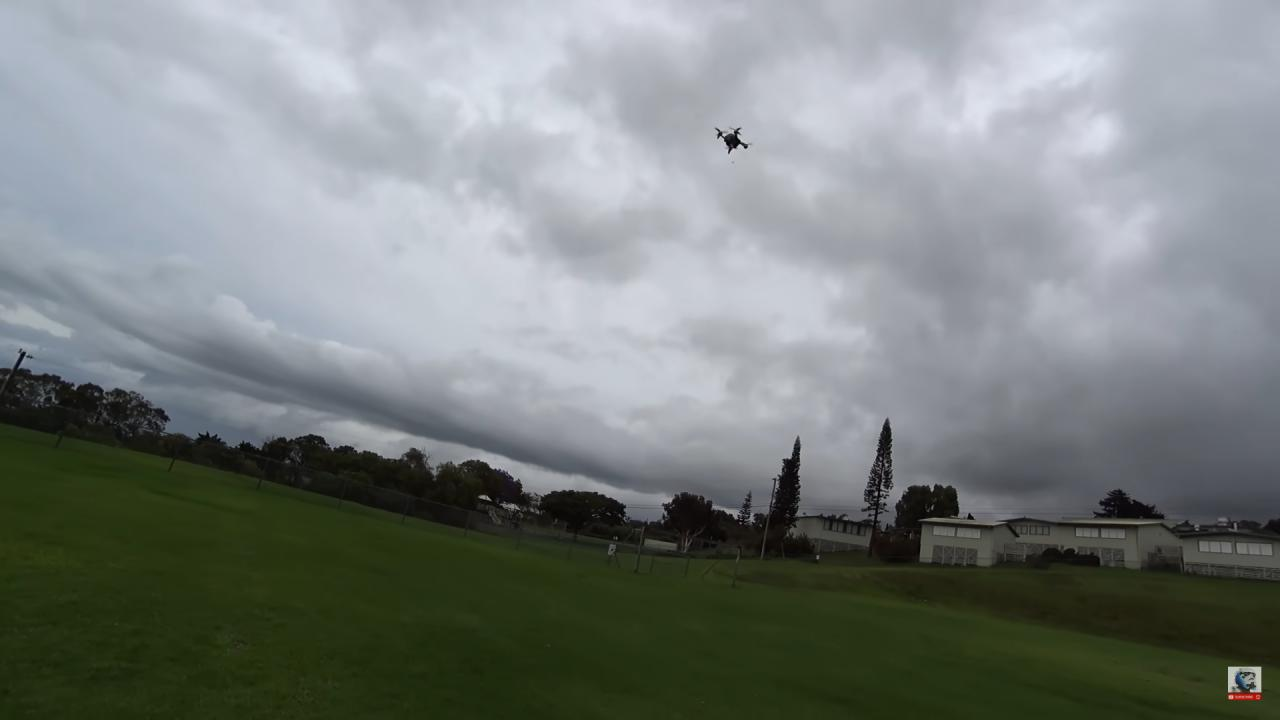Drone: (702, 111, 764, 166)
